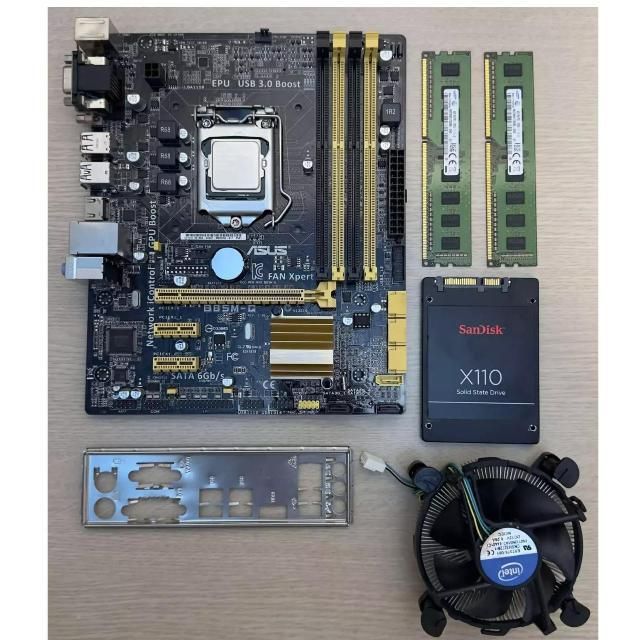CPU: (204, 136, 268, 198)
CPU_Fan: (406, 450, 592, 640)
DISK: (418, 275, 542, 446)
RAM: (482, 49, 540, 270), (420, 50, 473, 268)
